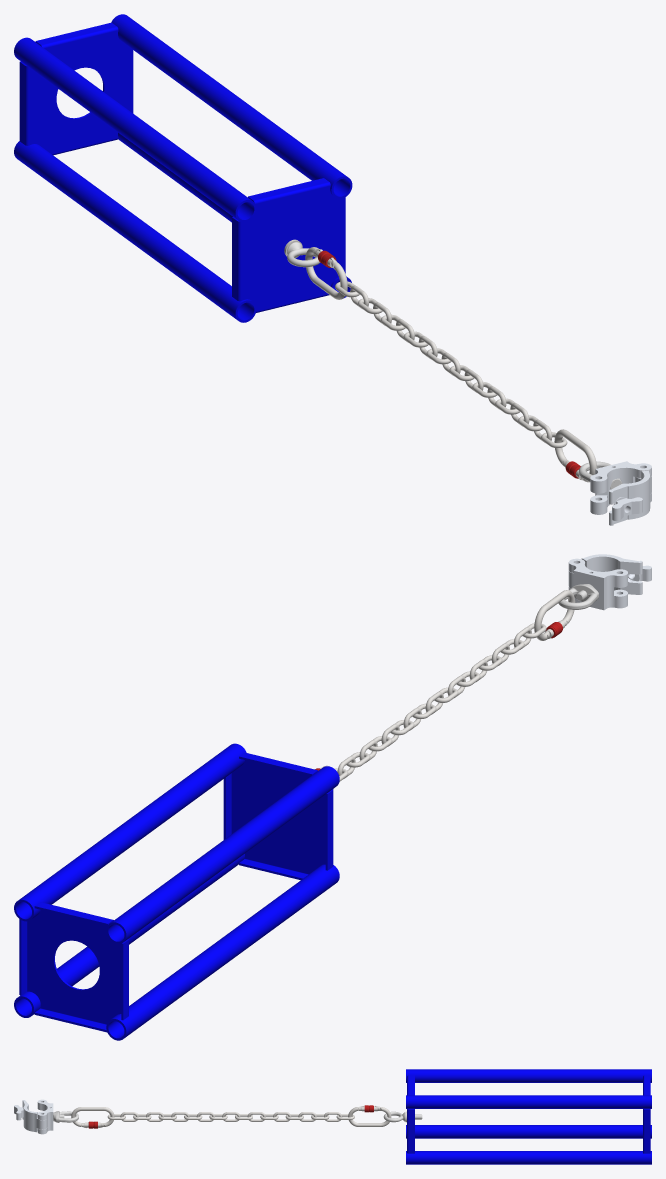
The model's file is BlueDeepCage.fbx.
3 renders of one model, top to bottom at view 1: azimuth 30°, elevation 25°; view 2: azimuth 150°, elevation 25°; view 3: azimuth 270°, elevation 25°, orthographic. The views are drawn at different scales.
Parts seen in each view (by area): view 1: GE-25201-02, GE-25201-01, GE-25201-03.002, GE-25201-03, GE-25201-03.003, FE-01016.001, FE-01016.002, 3216T41_Carabiner.001, GE-25201-03.001, 3216T41_Carabiner; view 2: GE-25201-01, GE-25201-02, GE-25201-03.002, GE-25201-03, GE-25201-03.003, GE-25201-03.001, FE-01016.001, FE-01016.002, 3216T41_Carabiner; view 3: GE-25201-03.003, GE-25201-03.001, GE-25201-03.002, GE-25201-03, GE-25201-01, GE-25201-02, FE-01016.002, FE-01016.001, 3216T41_Carabiner.001, 3216T41_Carabiner, eyenut_.5-13_3019T18, eyebolt_shoulder_.5_13_1.5.
Boxes of the visible parts, box(x1,y1,x2,y2) form: GE-25201-02: box(232, 178, 345, 312); GE-25201-01: box(19, 22, 133, 155); GE-25201-03.002: box(14, 37, 256, 222); GE-25201-03: box(14, 141, 256, 322); GE-25201-03.003: box(111, 14, 352, 198); FE-01016.001: box(590, 461, 651, 514); FE-01016.002: box(609, 470, 651, 525); 3216T41_Carabiner.001: box(305, 247, 347, 299); GE-25201-03.001: box(118, 132, 351, 298); 3216T41_Carabiner: box(554, 429, 596, 482); GE-25201-01: box(19, 902, 128, 1032); GE-25201-02: box(223, 752, 333, 880); GE-25201-03.002: box(106, 766, 339, 943); GE-25201-03: box(106, 864, 339, 1040); GE-25201-03.003: box(14, 743, 246, 921); GE-25201-03.001: box(14, 854, 244, 1017); FE-01016.001: box(568, 558, 627, 610); FE-01016.002: box(568, 554, 642, 594); 3216T41_Carabiner: box(534, 590, 575, 640); GE-25201-03.003: box(406, 1095, 651, 1108); GE-25201-03.001: box(406, 1151, 651, 1164); GE-25201-03.002: box(406, 1069, 651, 1082); GE-25201-03: box(406, 1125, 651, 1138); GE-25201-01: box(643, 1075, 650, 1153); GE-25201-02: box(407, 1075, 414, 1153); FE-01016.002: box(22, 1100, 47, 1132); FE-01016.001: box(37, 1099, 53, 1134); 3216T41_Carabiner.001: box(348, 1105, 391, 1126); 3216T41_Carabiner: box(71, 1107, 114, 1128); eyenut_.5-13_3019T18: box(53, 1111, 78, 1122); eyebolt_shoulder_.5_13_1.5: box(383, 1111, 422, 1122).
Bounding box in the file's own units: 18.56 × 18.58 × 158.
